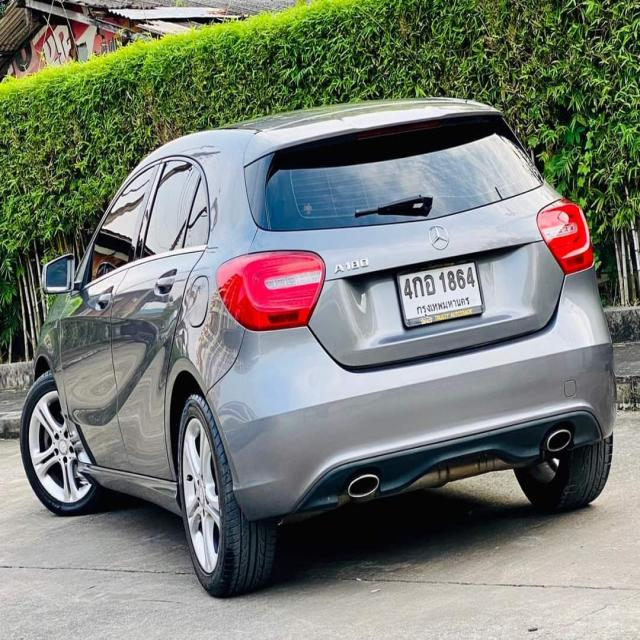license_plate: (392, 254, 491, 332)
